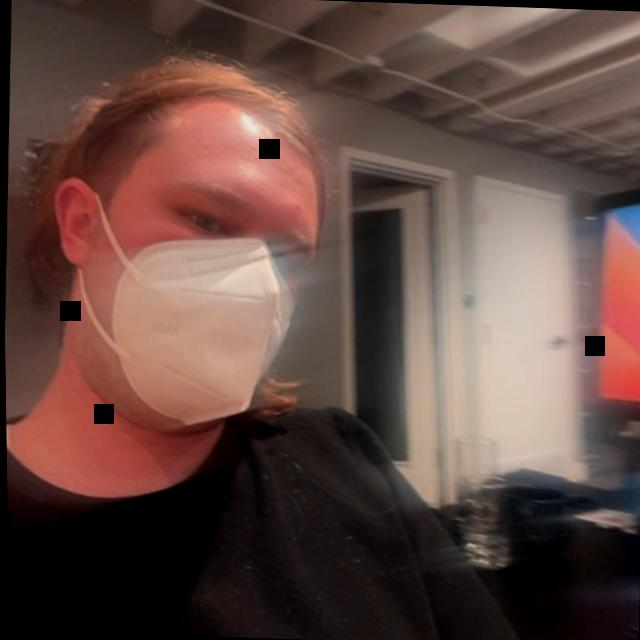Mask: (3, 53, 386, 509)
